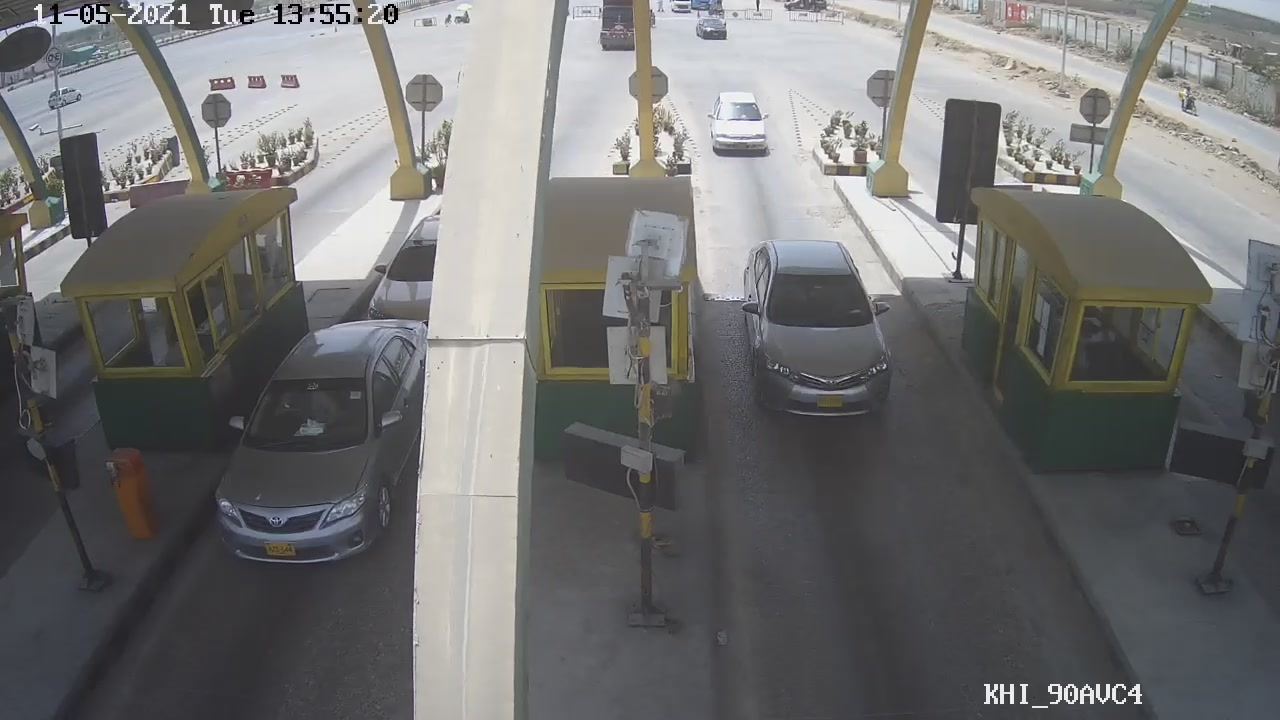F2: (738, 234, 895, 424)
